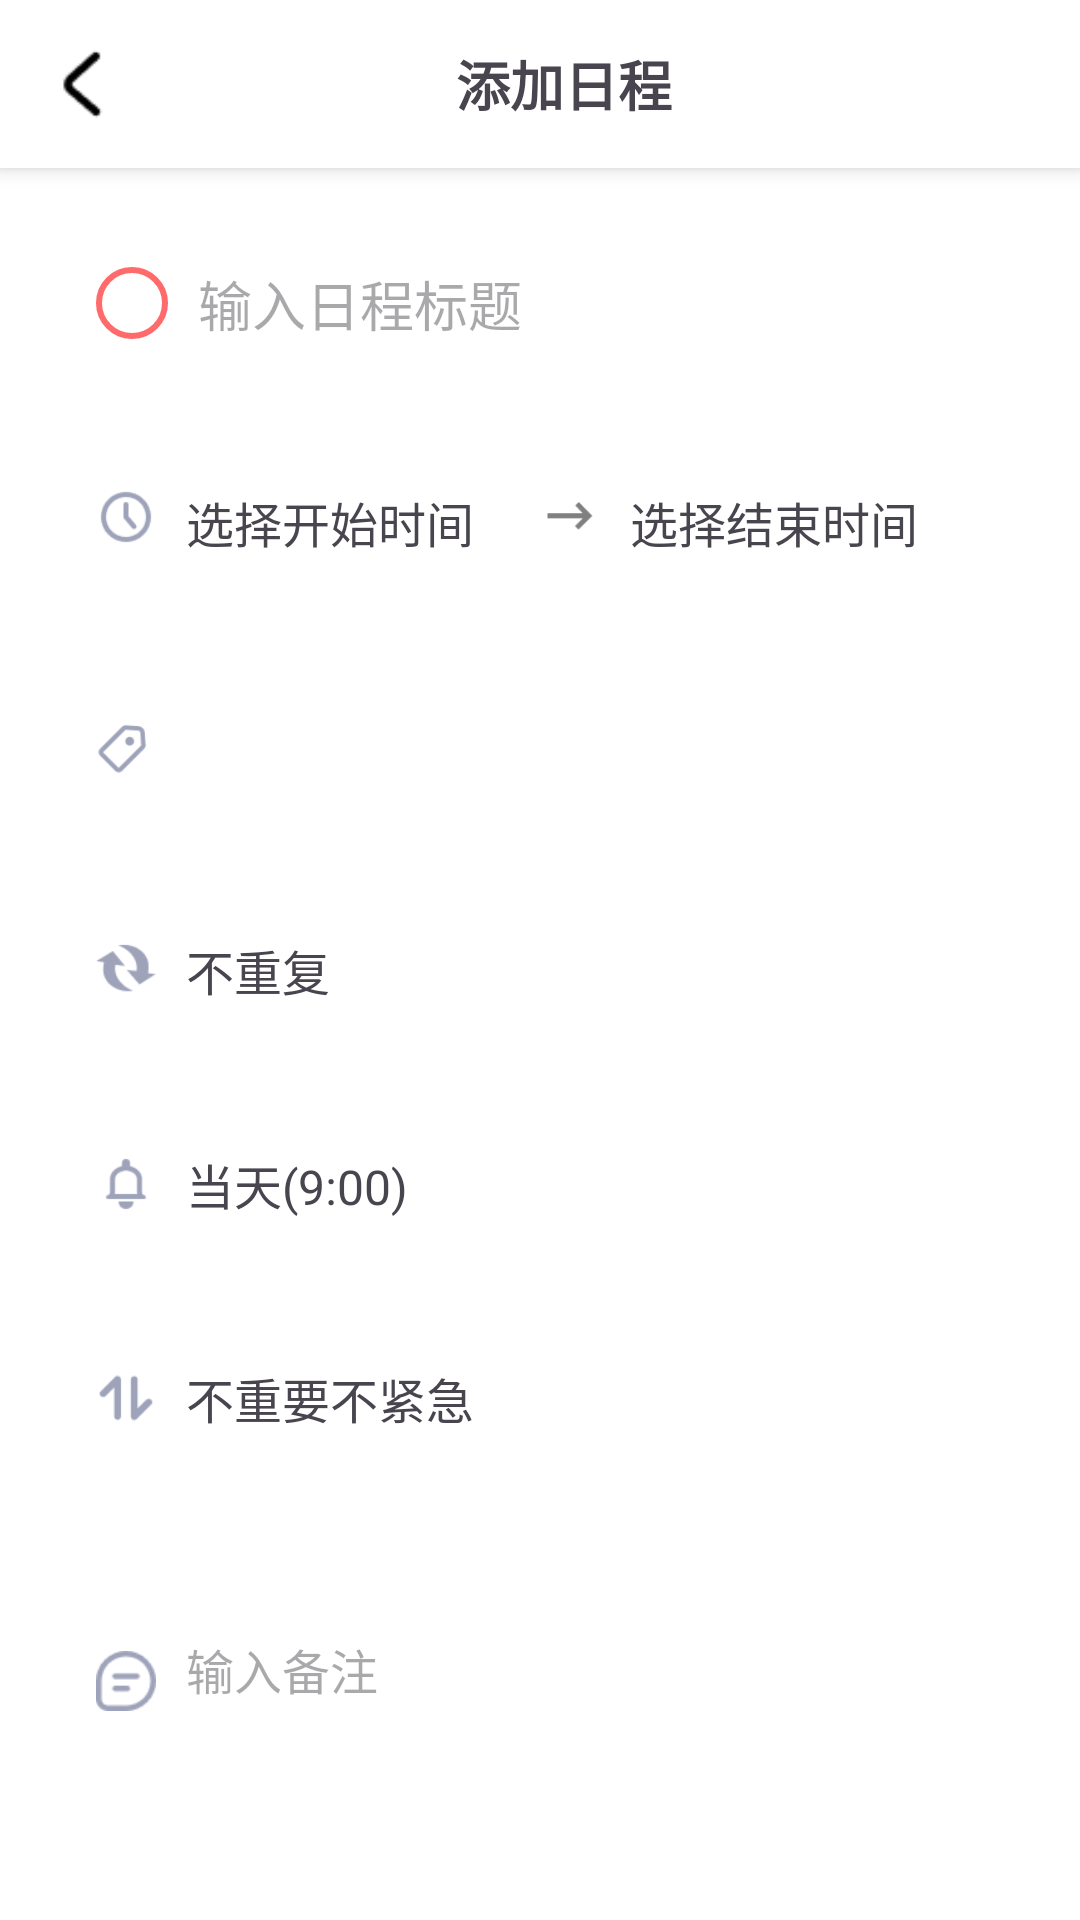

Icon bounding boxes for this 1080w x 1920h phone screenshot, format (left=x1, top=y1, right=x2, bottom=y2):
完成状态: (left=96, top=267, right=168, bottom=339)
提醒: (left=106, top=1159, right=146, bottom=1209)
日期: (left=101, top=492, right=151, bottom=542)
箭头: (left=547, top=502, right=593, bottom=530)
返回: (left=63, top=51, right=101, bottom=117)
